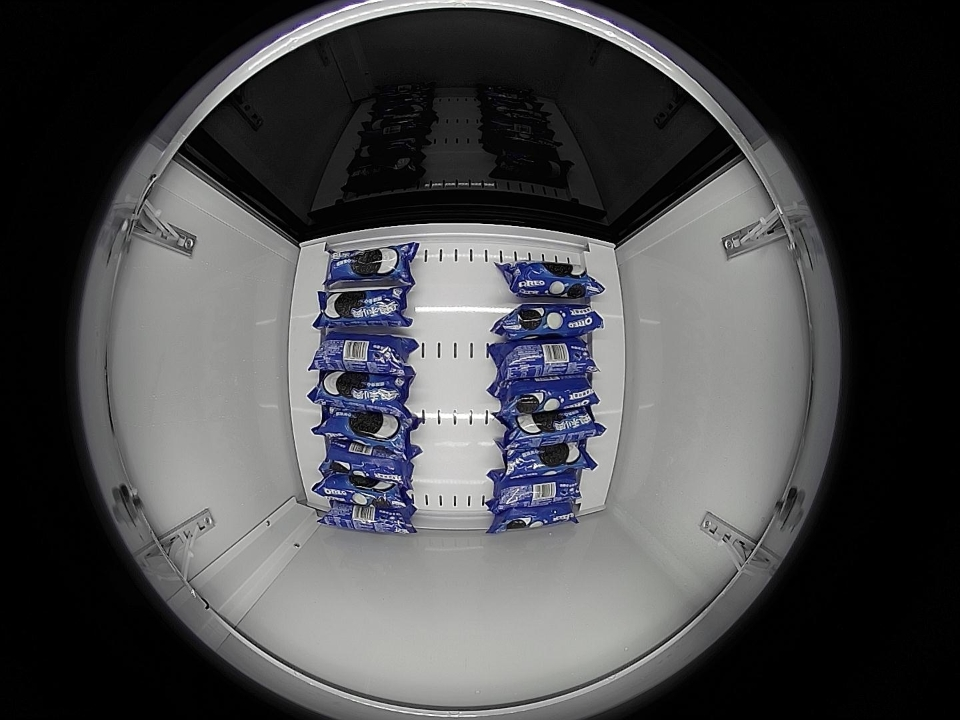aoliao: (307, 368, 413, 407), (310, 333, 406, 376), (497, 303, 607, 339), (317, 285, 409, 328), (502, 258, 598, 299), (498, 340, 601, 378), (326, 246, 416, 286), (320, 443, 417, 480), (318, 406, 410, 441), (496, 437, 588, 472), (320, 471, 412, 504), (495, 383, 593, 413), (501, 411, 601, 440), (492, 472, 581, 504), (491, 502, 580, 532), (326, 504, 413, 533)
